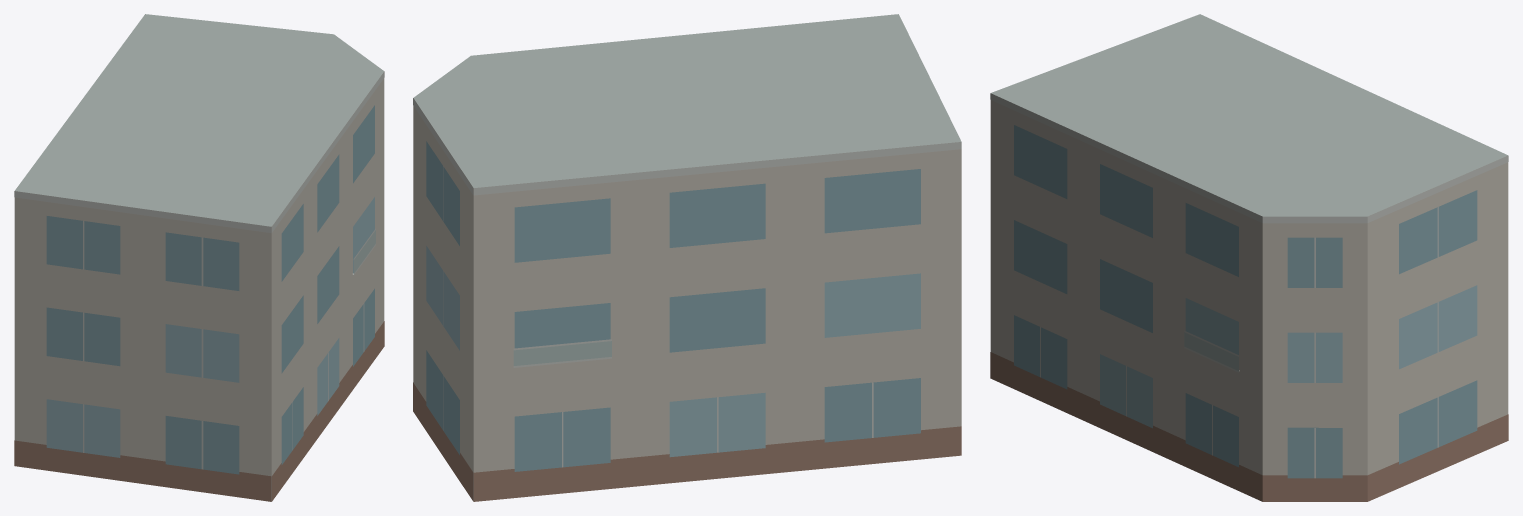
File: survey-upis-32827649.glb
The picture shows the model from 3 angles, left to right: view 1: azimuth 30°, elevation 25°; view 2: azimuth 150°, elevation 25°; view 3: azimuth 270°, elevation 25°; orthographic projection. The views are drawn at different scales.
Parts seen in each view (by area): view 1: survey-upis-32827649.tmp; view 2: survey-upis-32827649.tmp; view 3: survey-upis-32827649.tmp.
Part boxes in pixels (<box>): survey-upis-32827649.tmp: <box>14,14,384,501</box>; survey-upis-32827649.tmp: <box>413,14,961,501</box>; survey-upis-32827649.tmp: <box>990,14,1508,501</box>.
Bounding box in the file's own units: 15.85 × 10.4 × 17.12.
